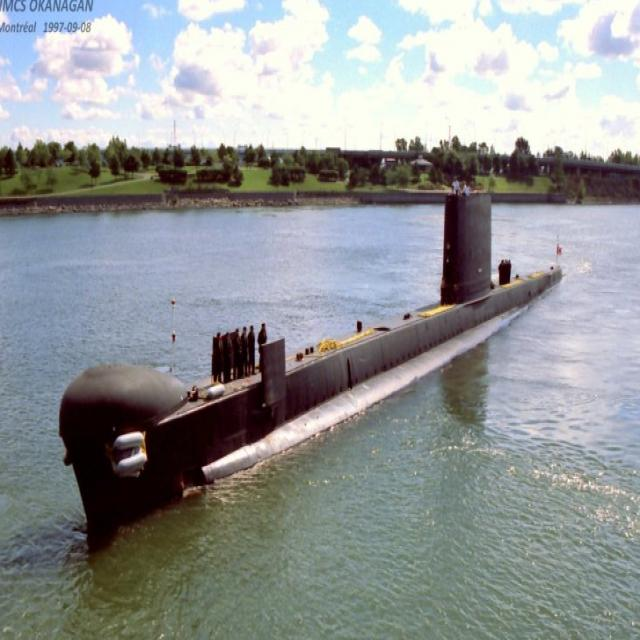submarine: (85, 171, 575, 553)
